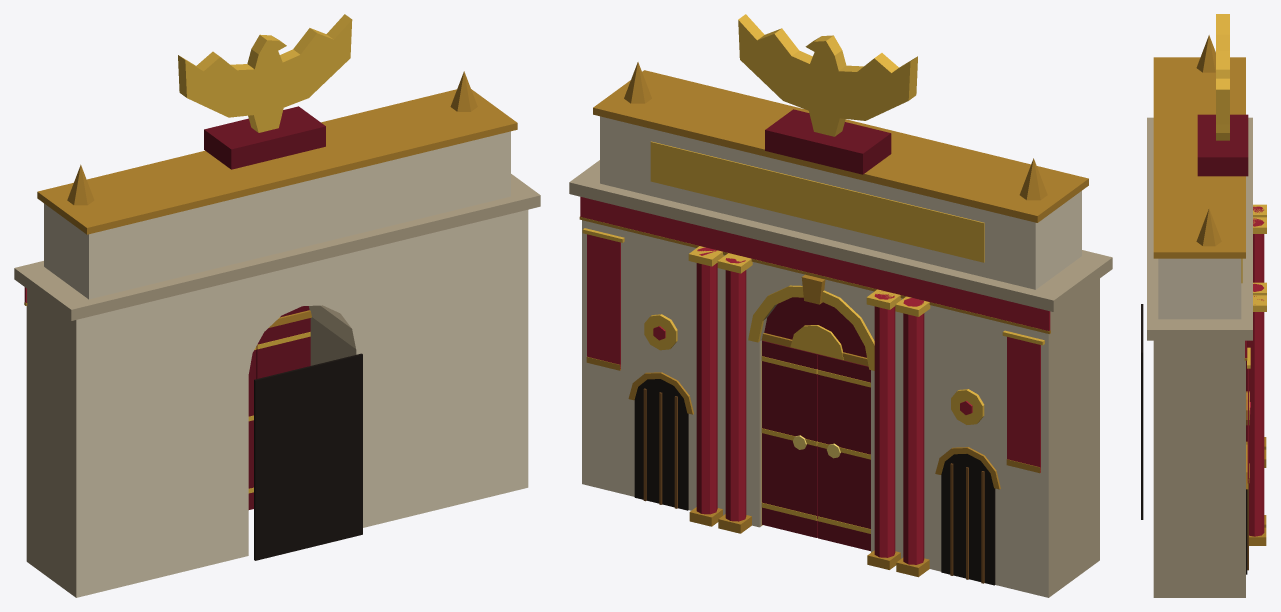
Rendered from SM_TriumphalGate.fbx.
3 renders of one model, left to right at view 1: azimuth 30°, elevation 25°; view 2: azimuth 150°, elevation 25°; view 3: azimuth 270°, elevation 25°, orthographic. The views are drawn at different scales.
Parts seen in each view (by area): view 1: SM_TriumphalGate_Frame, DoorL.001, DoorR.001; view 2: SM_TriumphalGate_Frame, DoorL.001, DoorR.001; view 3: SM_TriumphalGate_Frame.
Boxes of the visible parts, bbox=[...] form: SM_TriumphalGate_Frame: bbox=[14, 14, 540, 597]; DoorL.001: bbox=[256, 318, 310, 378]; DoorR.001: bbox=[248, 346, 256, 509]; SM_TriumphalGate_Frame: bbox=[569, 14, 1112, 597]; DoorL.001: bbox=[761, 340, 817, 537]; DoorR.001: bbox=[817, 354, 870, 551]; SM_TriumphalGate_Frame: bbox=[1141, 14, 1266, 597].
Bounding box in the file's own units: 21.8 × 5.46 × 21.23.
